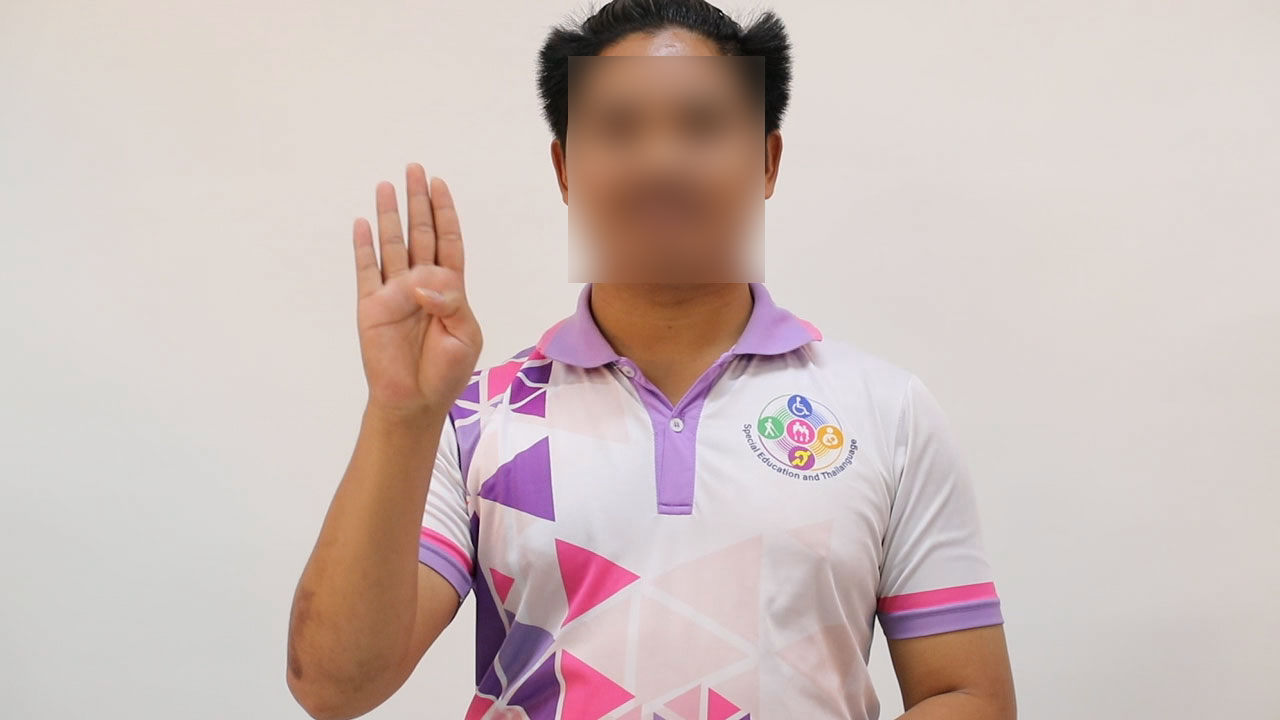bor: (340, 151, 501, 447)
